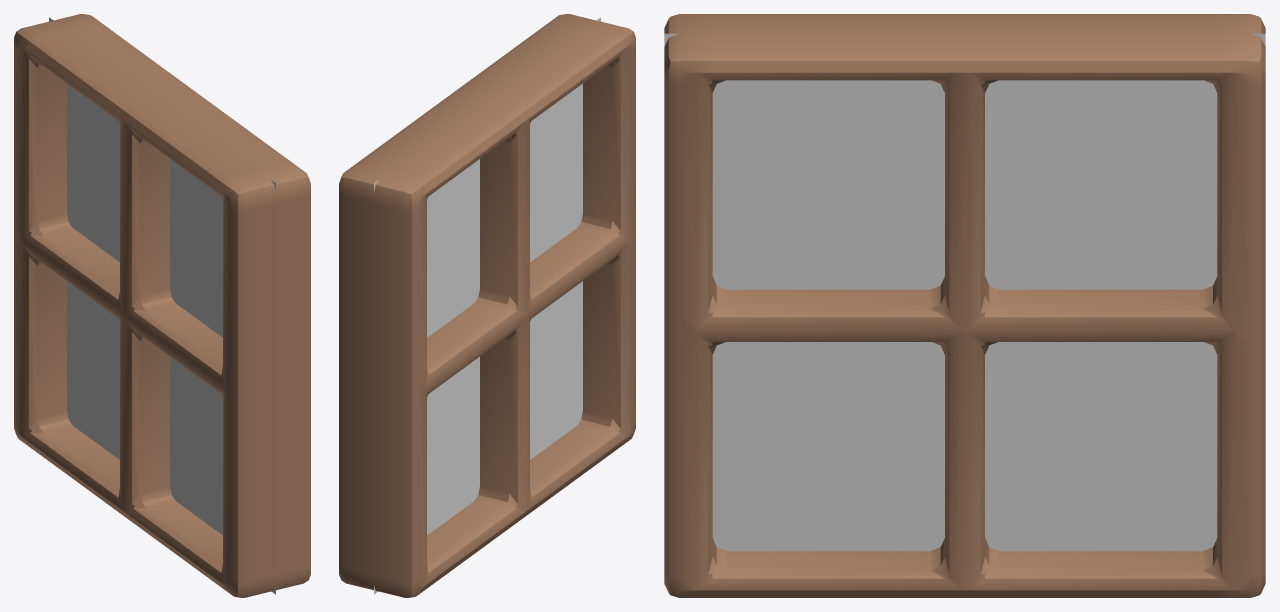
Rendered from Window.fbx.
The picture shows the model from 3 angles, left to right: view 1: azimuth 30°, elevation 25°; view 2: azimuth 150°, elevation 25°; view 3: azimuth 270°, elevation 25°; orthographic projection. The views are drawn at different scales.
Visible parts, largest first — view 1: Cube.014, Plane; view 2: Cube.014, Plane; view 3: Plane, Cube.014.
Part boxes in pixels (x1=…): Cube.014: x1=14, y1=14, x2=310, y2=597; Plane: x1=49, y1=17, x2=275, y2=594; Cube.014: x1=339, y1=14, x2=635, y2=597; Plane: x1=374, y1=17, x2=600, y2=594; Plane: x1=664, y1=33, x2=1265, y2=551; Cube.014: x1=664, y1=14, x2=1265, y2=597.
Size of the model in its own units: 20 by 100 by 100.
Materials: 2 (1 with a texture image).
